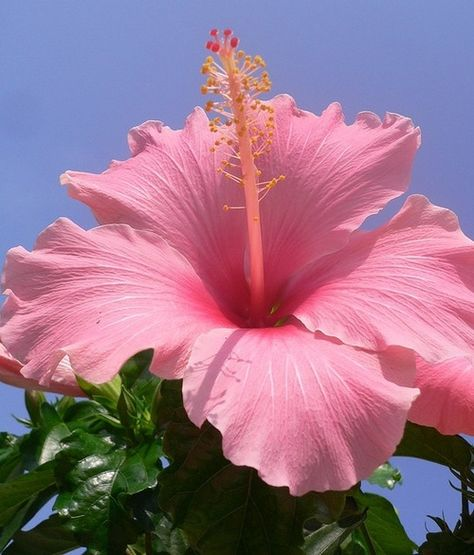Hibiscus: (1, 26, 474, 473)
